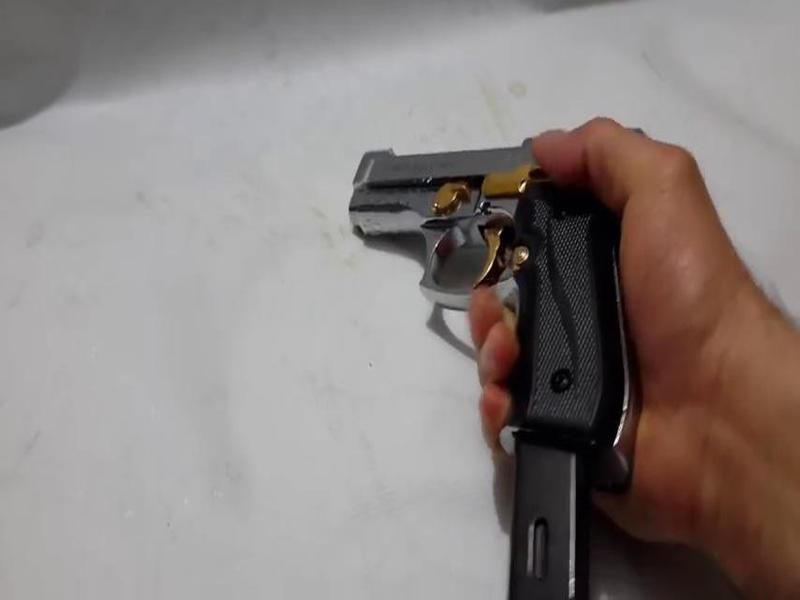Pistola: (338, 115, 677, 490)
